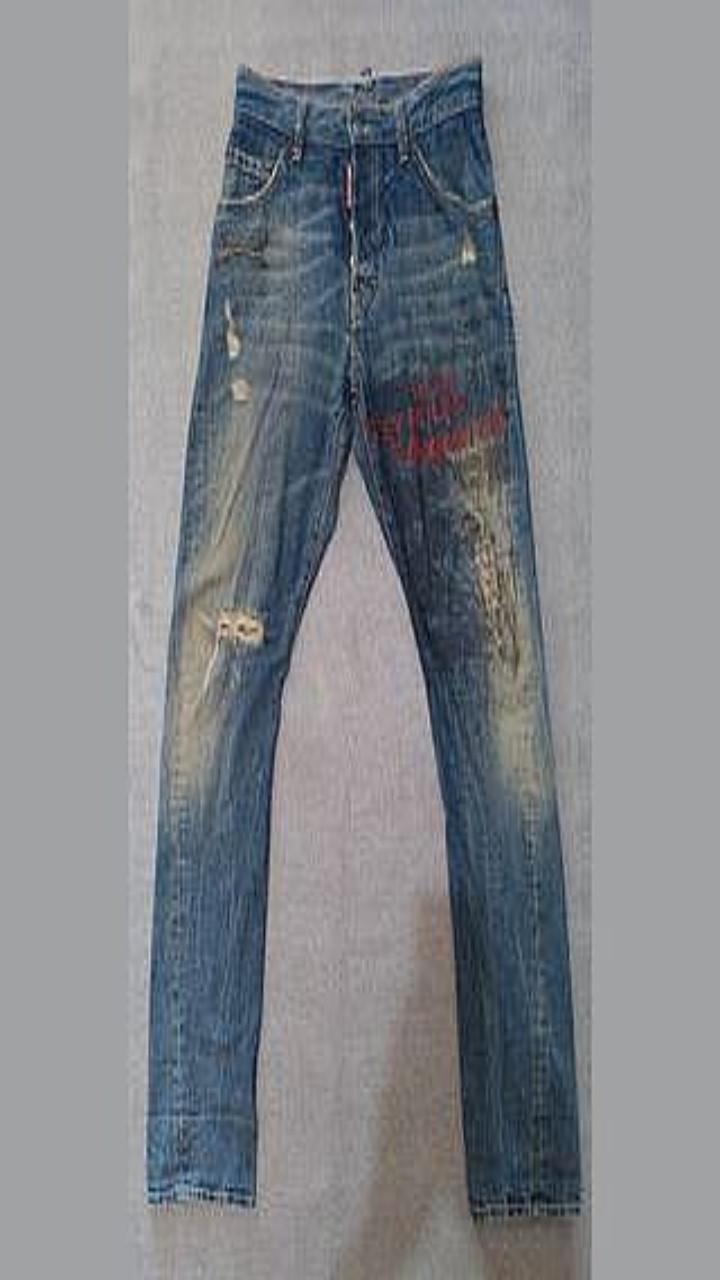Jeans: (147, 60, 580, 1216)
